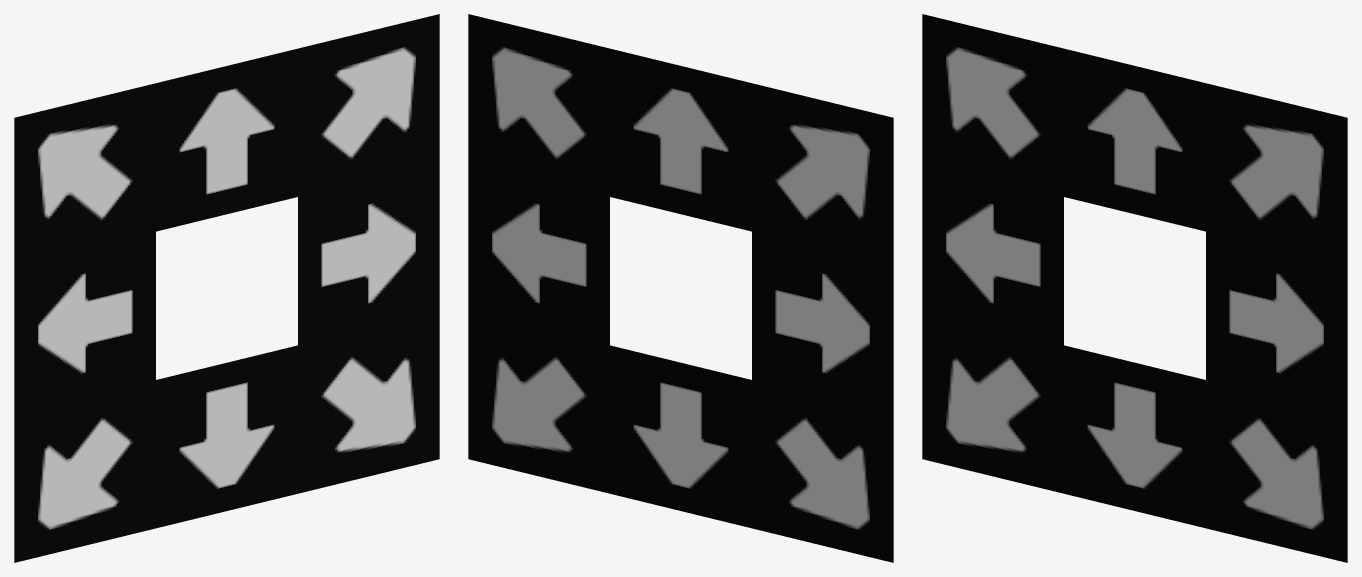
The model's file is DirectionalPad.obj.
The picture shows the model from 3 angles, left to right: view 1: azimuth 30°, elevation 25°; view 2: azimuth 150°, elevation 25°; view 3: azimuth 330°, elevation 25°; orthographic projection.
Visible parts, largest first — view 1: Plane; view 2: Plane; view 3: Plane.
Boxes of the visible parts, x1,y1,x2,y2 form: Plane: [14, 14, 439, 562]; Plane: [468, 14, 893, 562]; Plane: [922, 14, 1347, 562].
Size of the model in its own units: 0.375 by 0.375 by 0.
